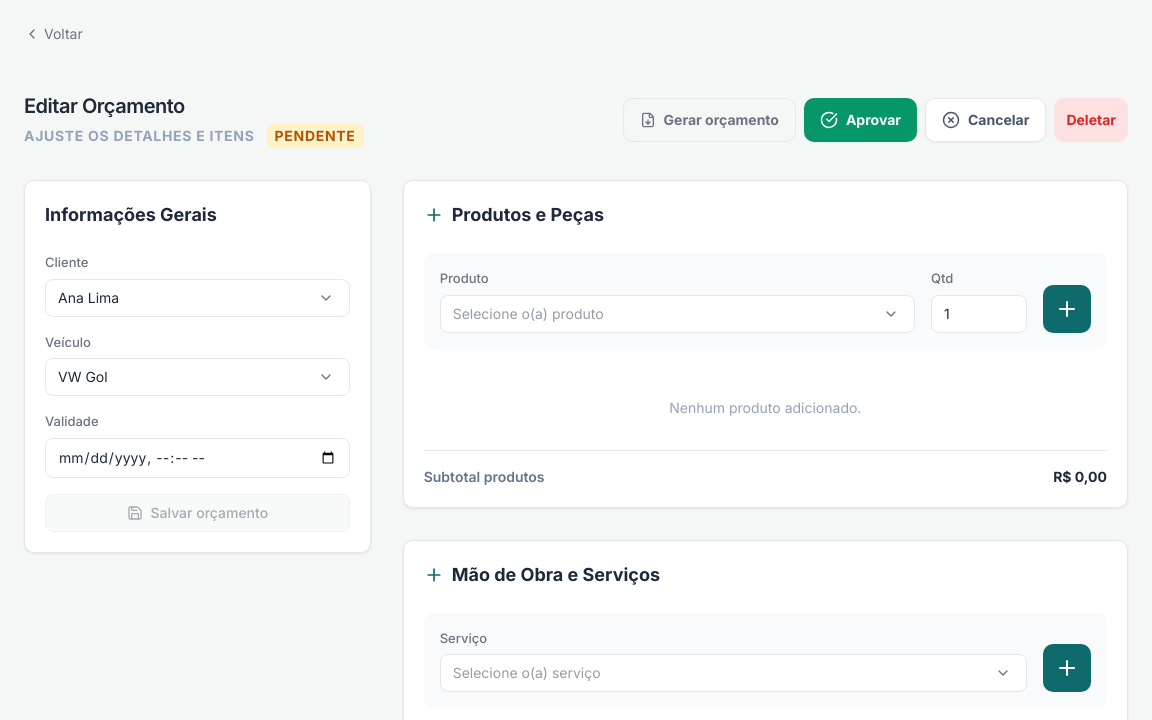
Scenario: <BudgetEdit> — live-select de cliente/veículo › trocar o cliente realmente limpa o vehicle_id do form, não só o texto exibido
Expected: the text "pendente" is shown, [266,124,364,148]
Click the dropdown below "Cliente" at (197, 298), box [45,278,350,316]
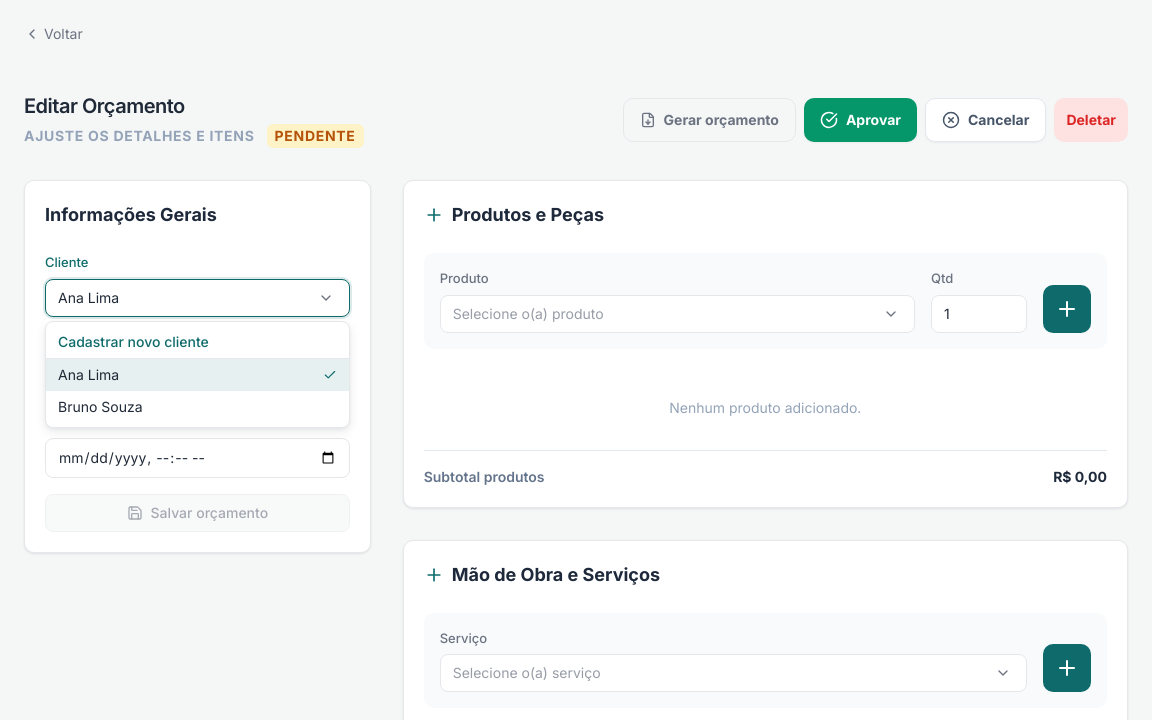
Click the option "Bruno Souza" at (100, 406), box [58,398,143,415]
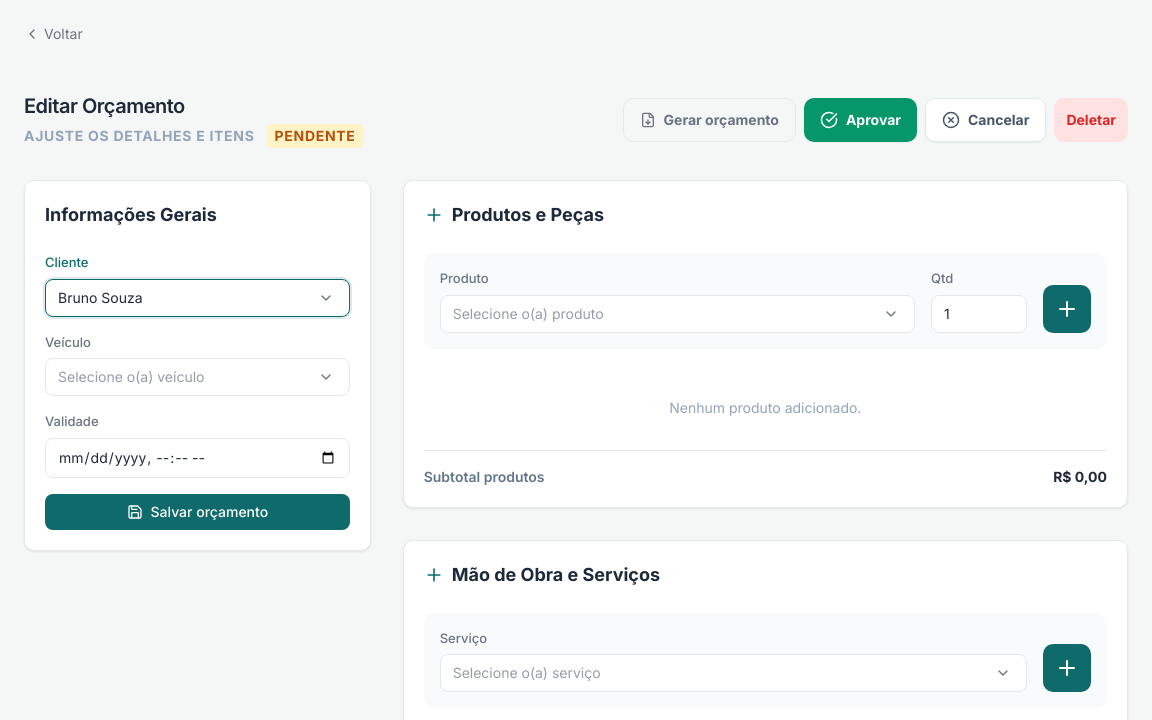
Click the button "Salvar orçamento" at (197, 512), box [45,494,350,530]
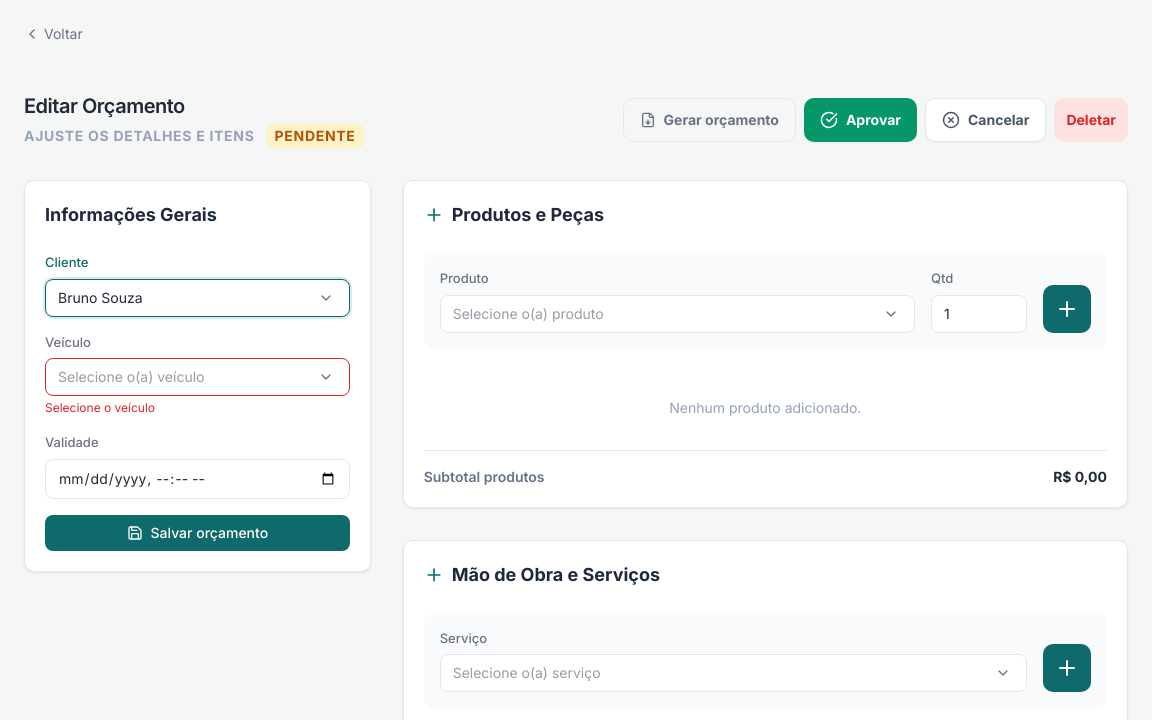
Expected: the text "Selecione o veículo" is shown, [45,400,155,415]
